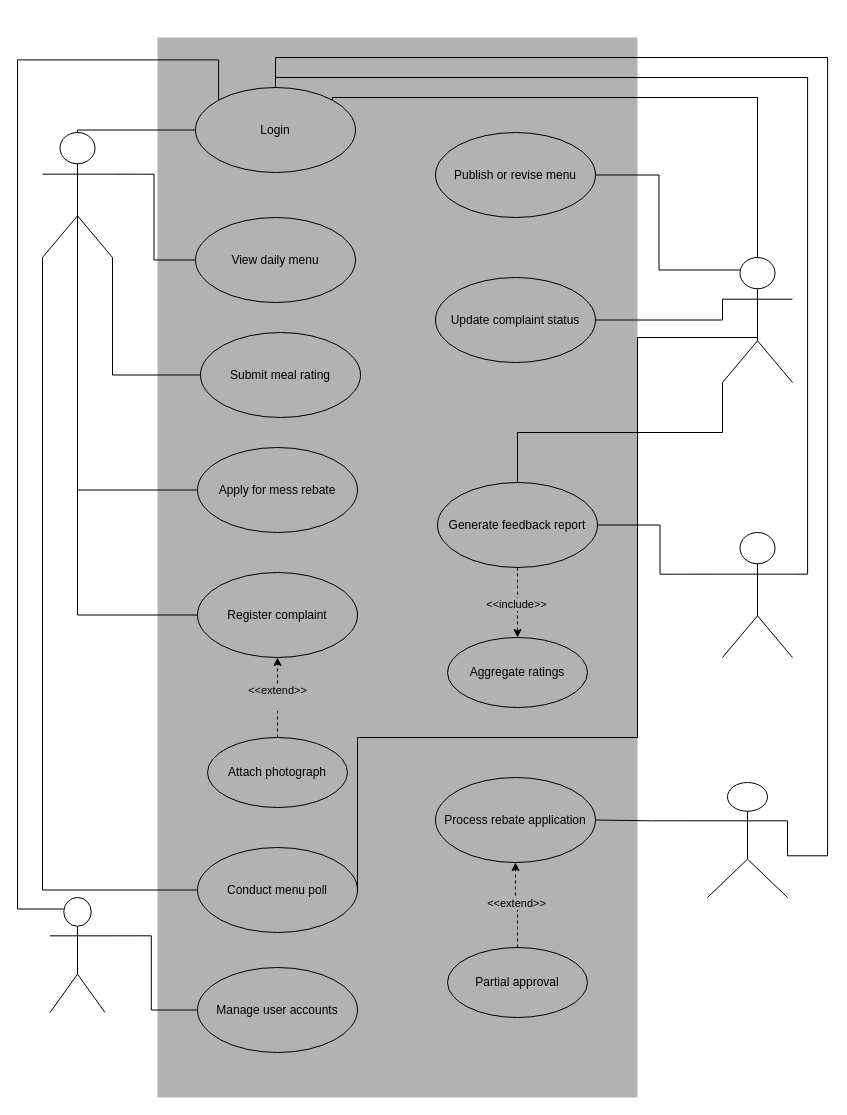
This 847x1115 diagram has some shape labels left out. The shapes that lost their labels are listed below. From the top down, each one's centre as x and y in pixels, then its label:
At (x=77, y=195): "Student".
At (x=757, y=319): "Committee".
At (x=397, y=567): "Hostel Mess Management System".
At (x=757, y=595): "Contractor".
At (x=747, y=840): "Warden".
At (x=77, y=954): "Administrator".
